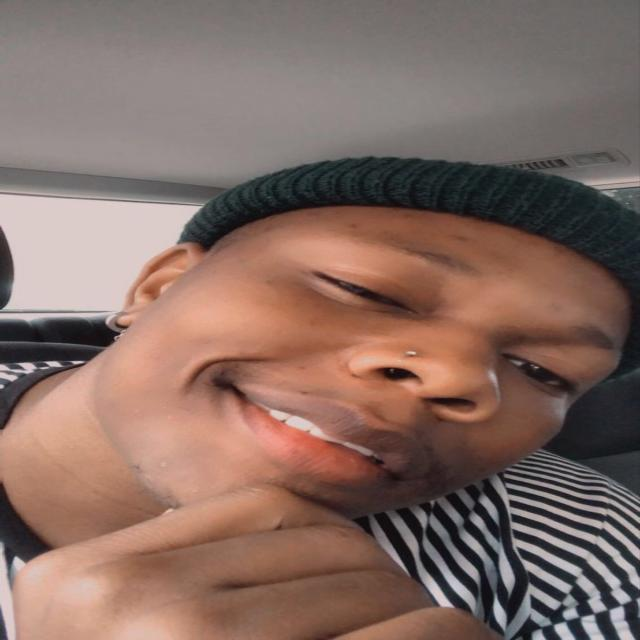Earring: (100, 302, 130, 342)
